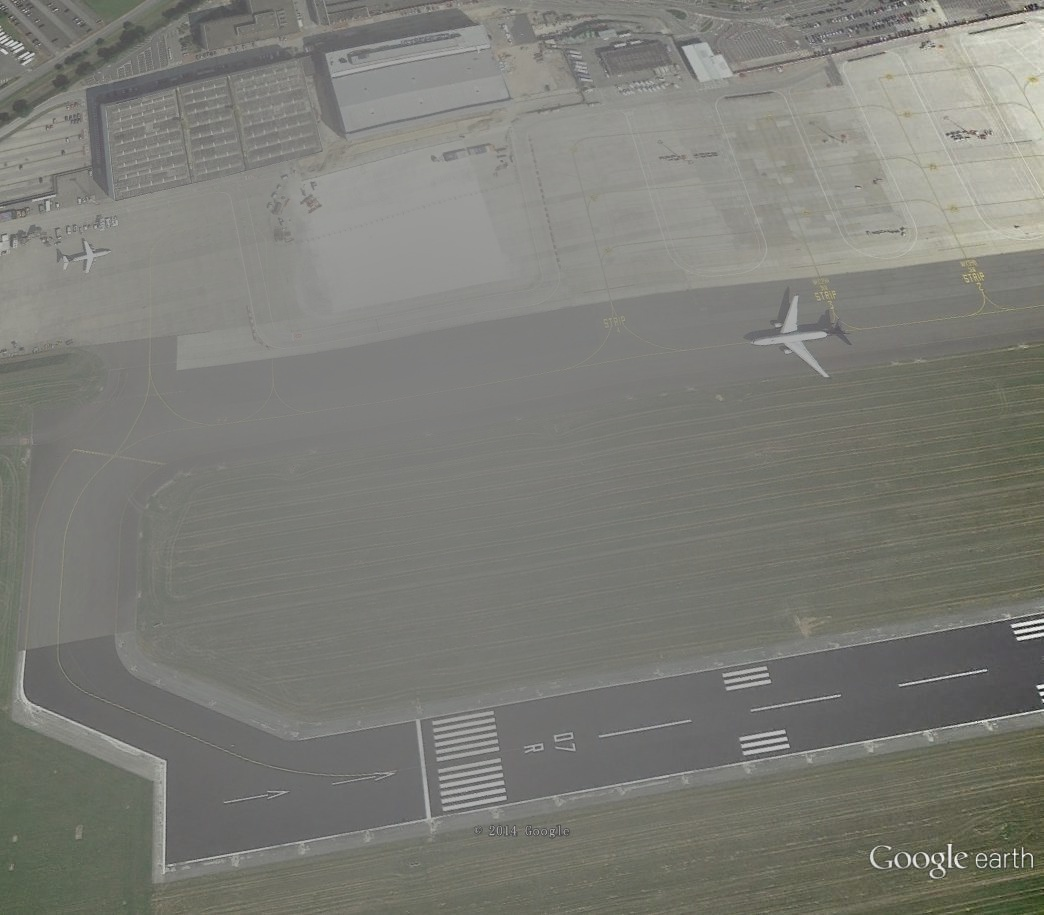aircraft: (751, 293, 854, 380), (60, 237, 113, 277)
